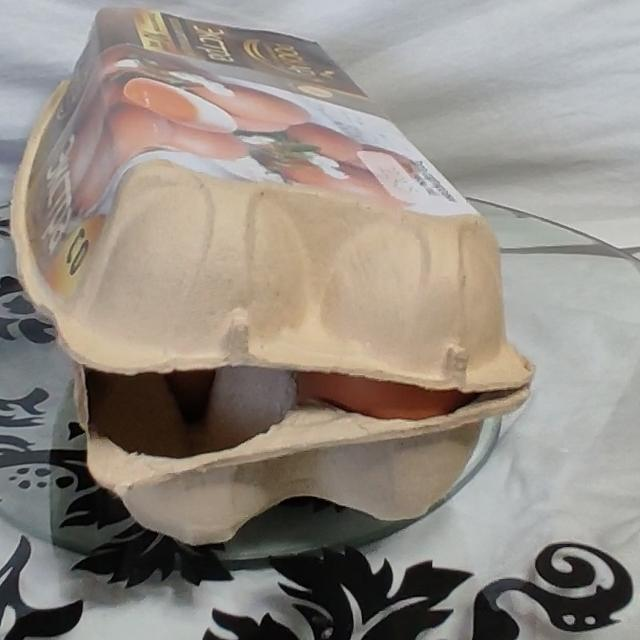egg: (0, 0, 531, 580)
